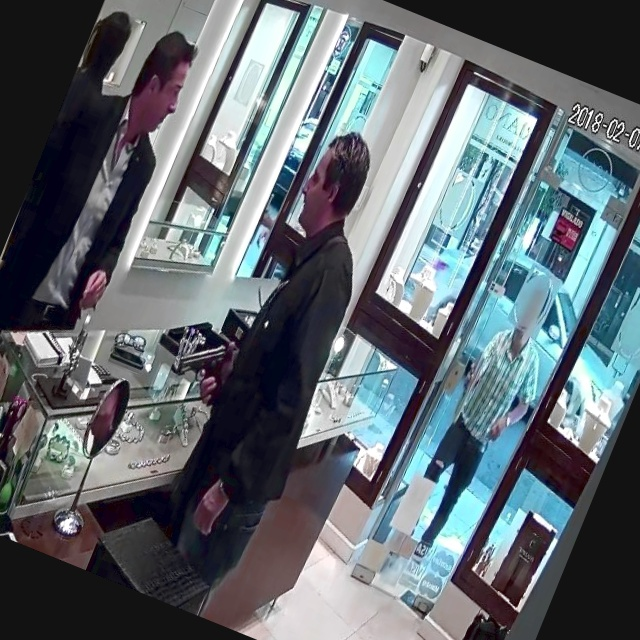gun: (156, 304, 251, 417)
